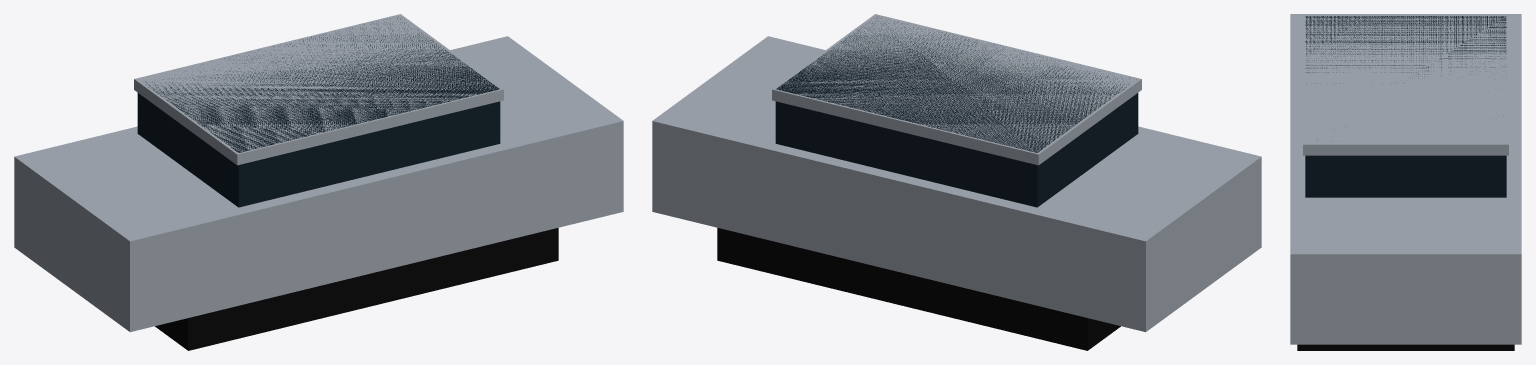
File: car.lod2.obj
3 renders of one model, left to right at view 1: azimuth 30°, elevation 25°; view 2: azimuth 150°, elevation 25°; view 3: azimuth 270°, elevation 25°, orthographic.
Parts seen in each view (by area): view 1: Body; view 2: Body; view 3: Body.
Part boxes in pixels (<box>): Body: <box>14,14,623,350</box>; Body: <box>652,14,1261,350</box>; Body: <box>1290,14,1521,350</box>.
Bounding box in the file's own units: 4.58 × 1.61 × 1.86.
